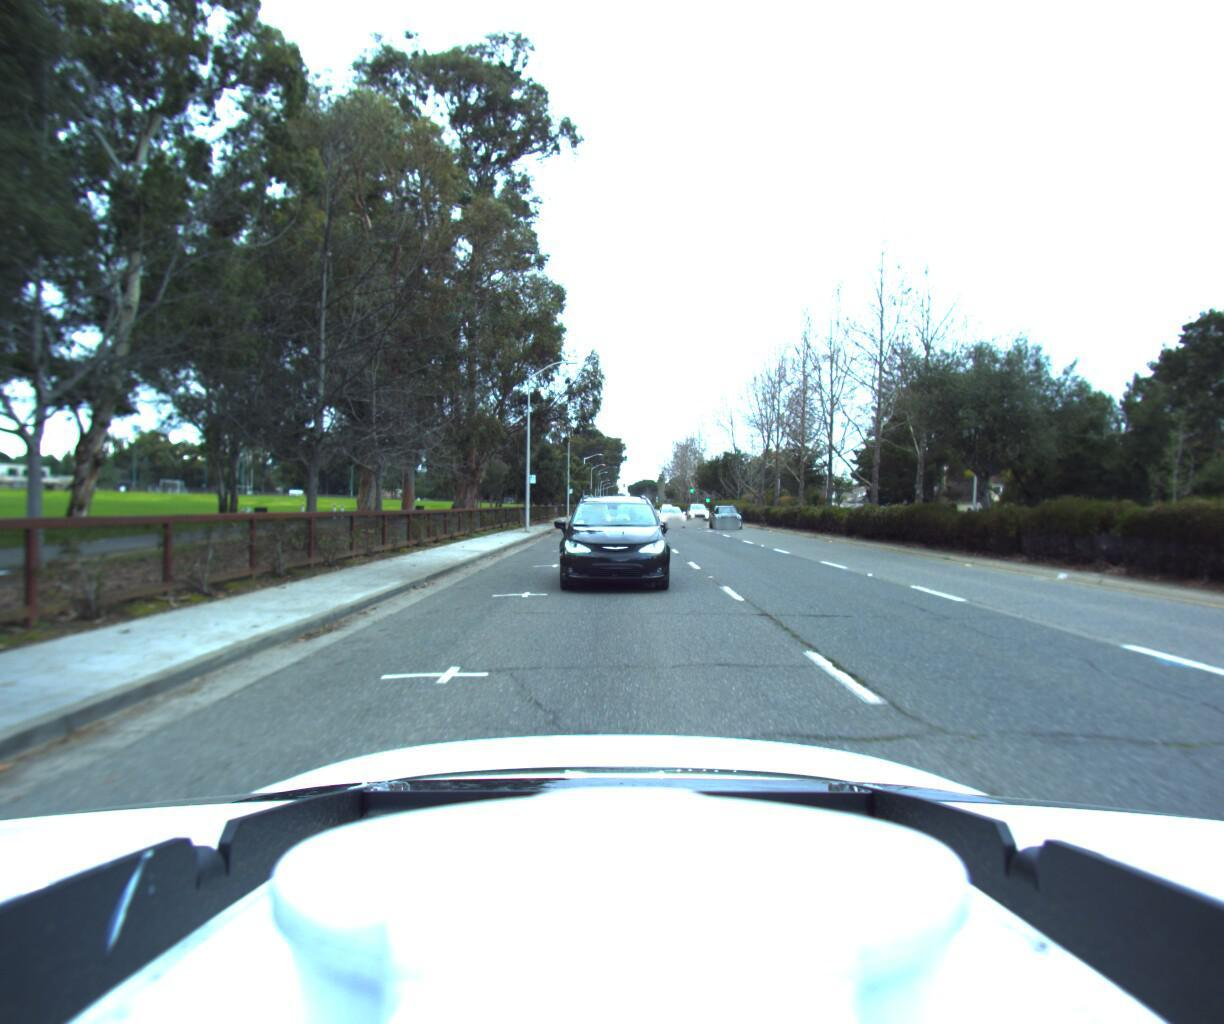car: (555, 491, 666, 594), (708, 502, 747, 528), (655, 503, 687, 526), (688, 501, 716, 520)
